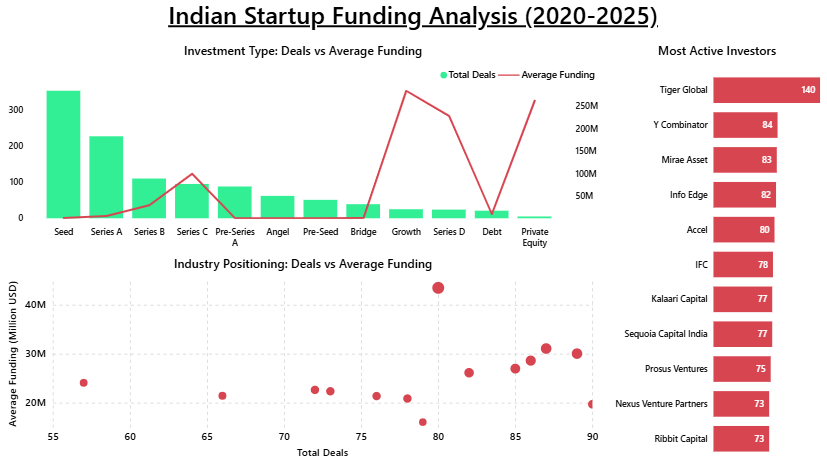

The page's visual inventory and layout, read from the dashboard file:
{"tool":"powerbi","page":{"name":"Detailed Analysis","canvas":[1280,720],"ordinal":1},"visuals":[{"type":"textbox","box":[212.1,0,855.7,60],"z":0},{"type":"scatterChart","title":"Industry Positioning: Deals vs Average Funding","fields":{"X":["startup_funding.Total Deals"],"Y":["startup_funding.Average Funding"],"Category":["startup_funding.Industry"],"Size":["startup_funding.Total Funding"]},"box":[16.2,395.3,908.1,313],"z":1000},{"type":"lineClusteredColumnComboChart","title":"Investment Type: Deals vs Average Funding","fields":{"Category":["startup_funding.InvestmentType"],"Y2":["startup_funding.Average Funding"],"Y":["startup_funding.Total Deals"]},"box":[16.2,67.6,908.1,318.9],"z":2000},{"type":"clusteredBarChart","title":"Most Active Investors ","fields":{"Category":["investor_participation.Investors"],"Y":["investor_participation.Investor Participation Count"]},"box":[949.2,67.6,317.4,652.4],"z":3000}]}

Visuals, with their boxes in screenshot pixels (x1, y1, x2, y2), scaled from the page's 1280x720 canvas onto the 827x464 screenshot:
textbox: box(137, 0, 690, 39)
"Industry Positioning: Deals vs Average Funding" scatterChart: box(10, 255, 597, 456)
"Investment Type: Deals vs Average Funding" lineClusteredColumnComboChart: box(10, 44, 597, 249)
"Most Active Investors " clusteredBarChart: box(613, 44, 818, 463)
